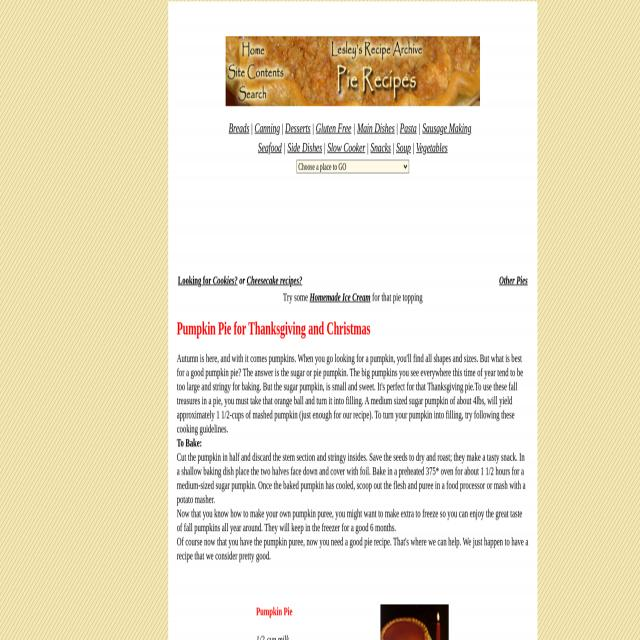button: (225, 35, 479, 105), (380, 604, 448, 640)
field: (296, 158, 408, 172)
